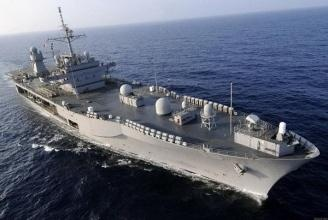warship: (1, 27, 316, 194)
